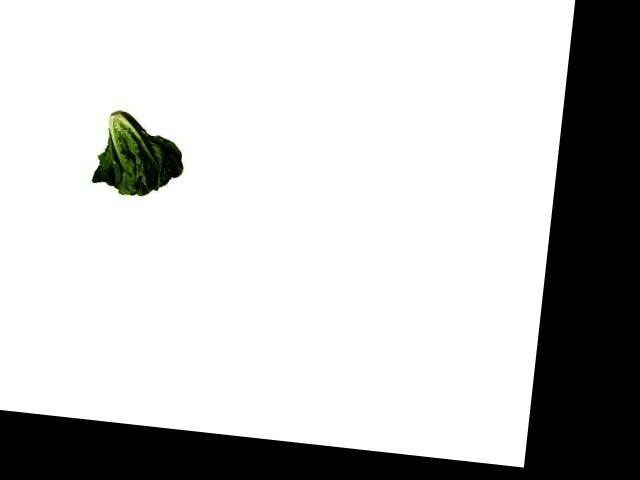lettuce: (88, 103, 190, 204)
